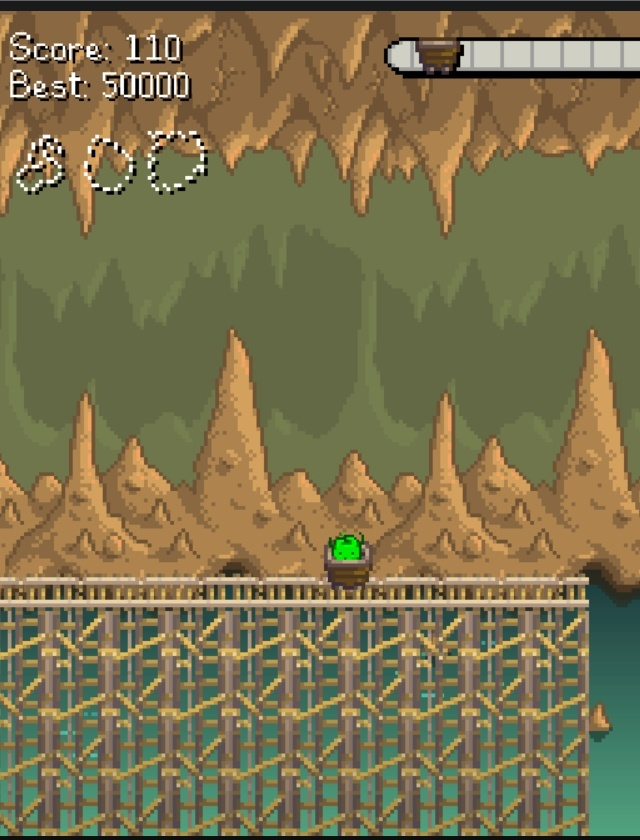minecart: (324, 533, 372, 588)
tracks: (0, 572, 588, 608)
